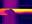Hotspot: (12, 9, 31, 13)
